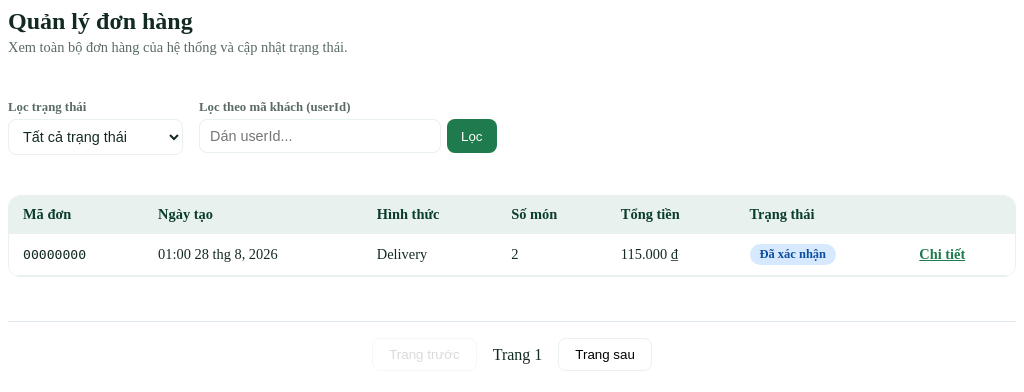
Test: AdminOrdersPage › moves to the next page through URL state
Click the button "Trang sau" at (605, 354), box [558, 338, 652, 371]
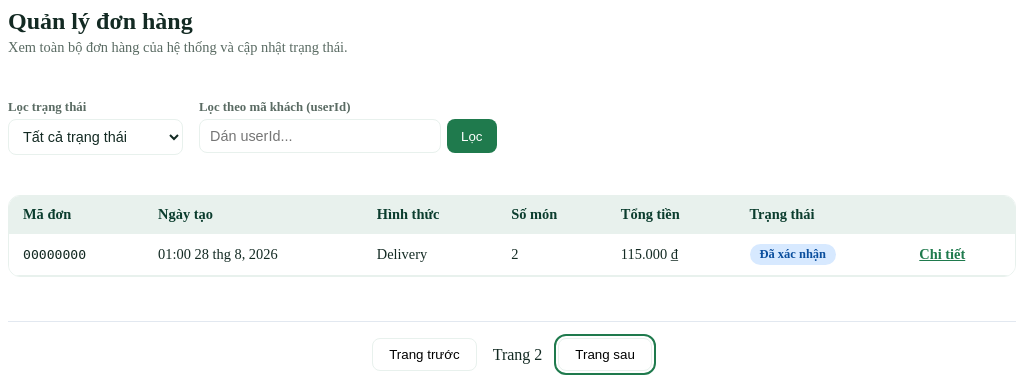
Now the text "Trang 2" is shown, box [493, 346, 542, 364]
